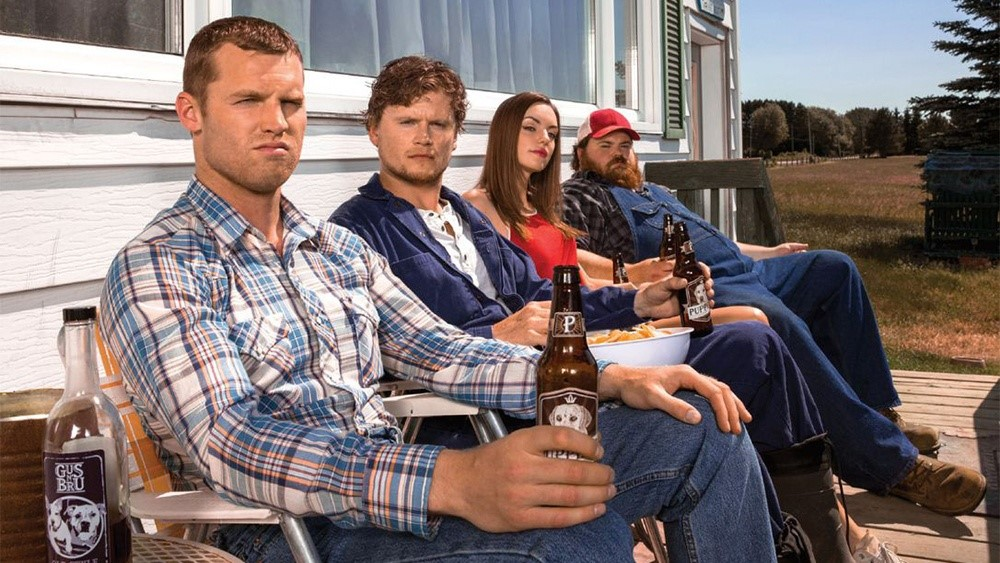face_no_mask: (179, 14, 309, 190), (363, 57, 466, 182), (487, 92, 561, 173), (578, 116, 641, 191)
